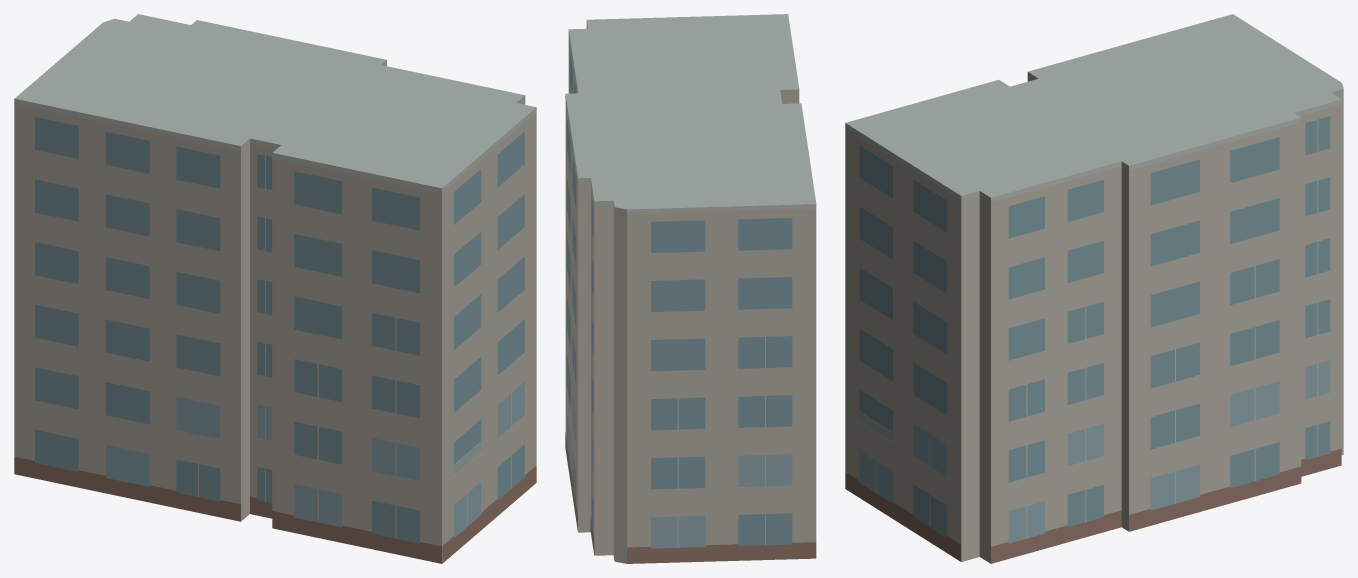
Rendered from survey-upis-32618571.glb.
The picture shows the model from 3 angles, left to right: view 1: azimuth 30°, elevation 25°; view 2: azimuth 150°, elevation 25°; view 3: azimuth 270°, elevation 25°; orthographic projection. The views are drawn at different scales.
Parts seen in each view (by area): view 1: survey-upis-32618571.tmp; view 2: survey-upis-32618571.tmp; view 3: survey-upis-32618571.tmp.
Part boxes in pixels (x1,y1,x2,y2): survey-upis-32618571.tmp: [14, 14, 536, 563]; survey-upis-32618571.tmp: [565, 14, 816, 563]; survey-upis-32618571.tmp: [845, 14, 1343, 563].
Size of the model in its own units: 19.72 by 18.3 by 22.59.
